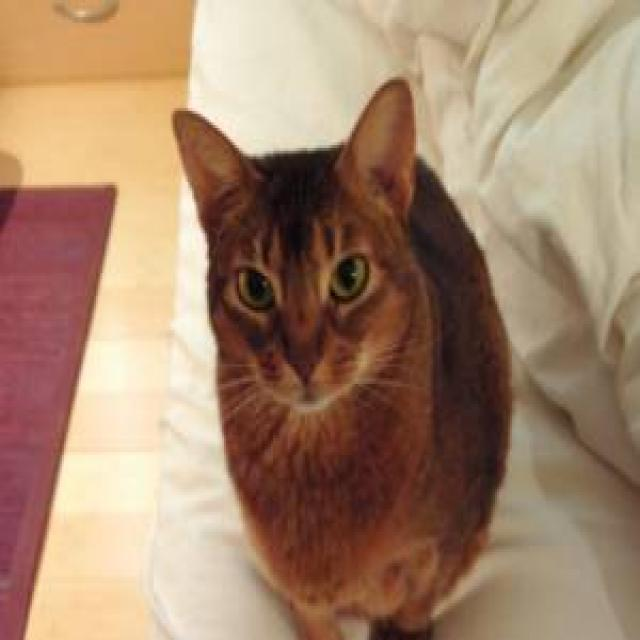Abyssinian: (172, 76, 438, 411)
